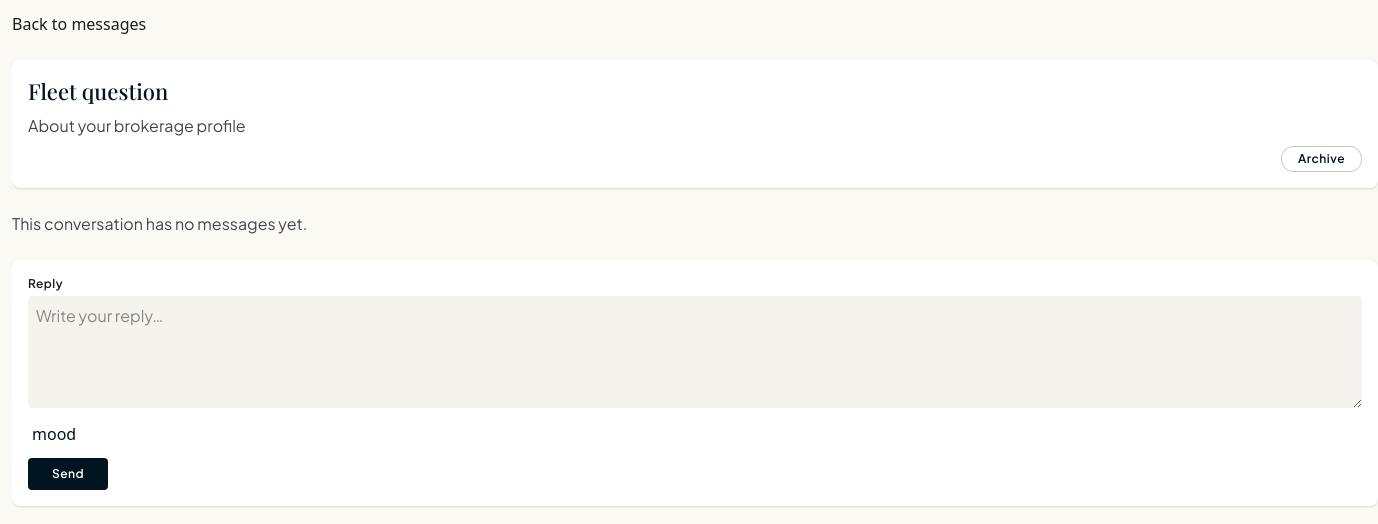
it: ThreadScreen › archives through the status endpoint and re-renders the new state
Click the button "Archive": (1321, 159) [1281,146,1362,172]
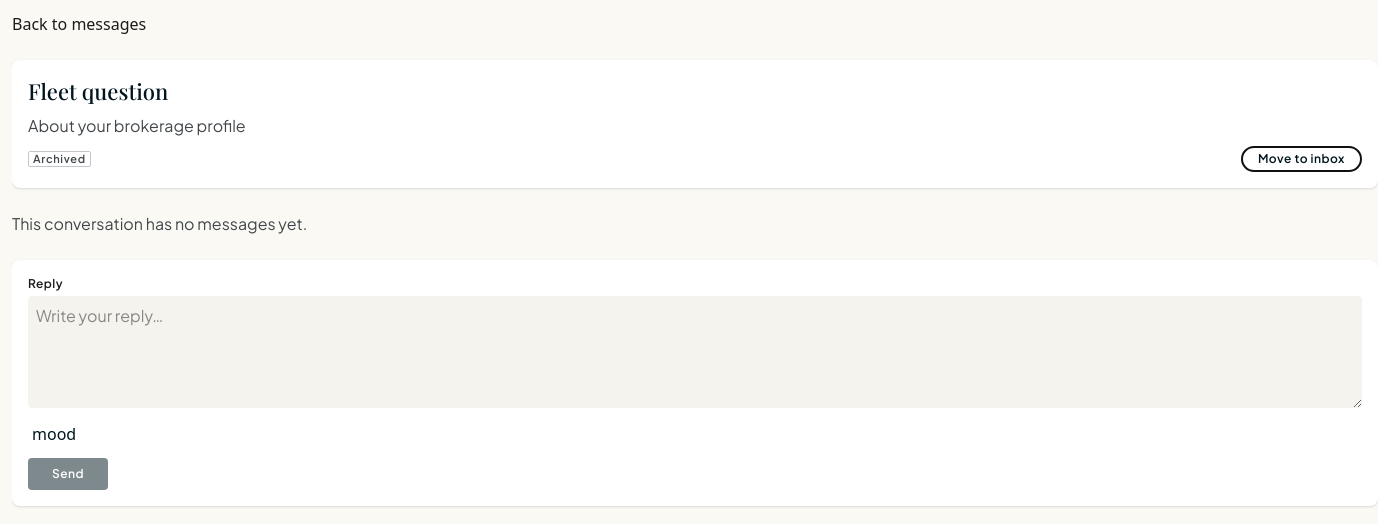
Check: the button "Move to inbox" is shown, box [1241,146,1362,172]
